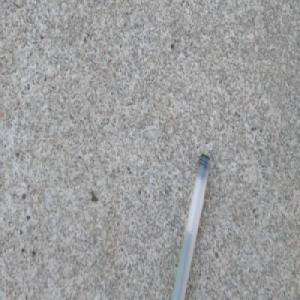Pen: (168, 152, 212, 300)
